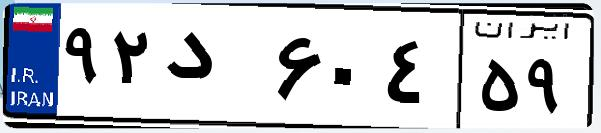0: (330, 28, 385, 110)
2: (110, 28, 158, 98)
4: (385, 28, 445, 110)
5: (475, 38, 525, 113)
6: (270, 28, 330, 110)
9: (57, 26, 110, 100), (525, 38, 570, 115)
د: (158, 20, 270, 120)
